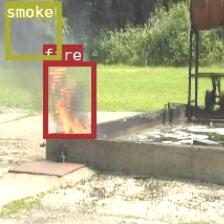fire: (42, 60, 95, 137)
smoke: (5, 1, 61, 59)
